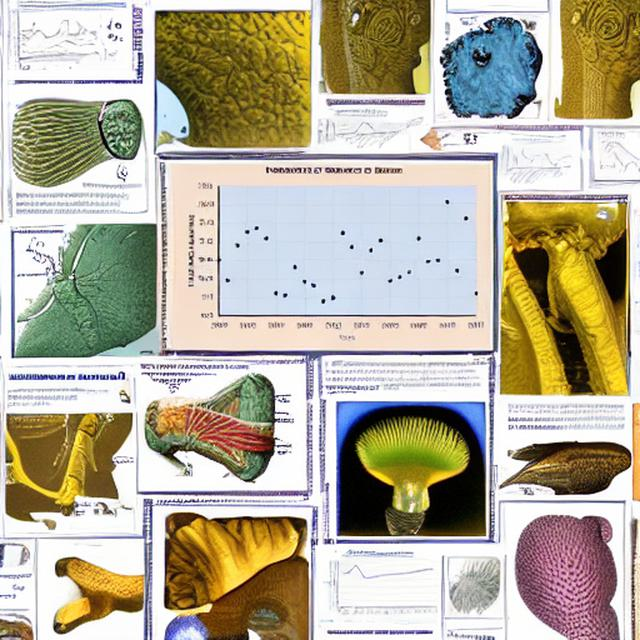Graph: (182, 164, 491, 348), (327, 552, 438, 618), (498, 136, 569, 188), (326, 110, 398, 153)
